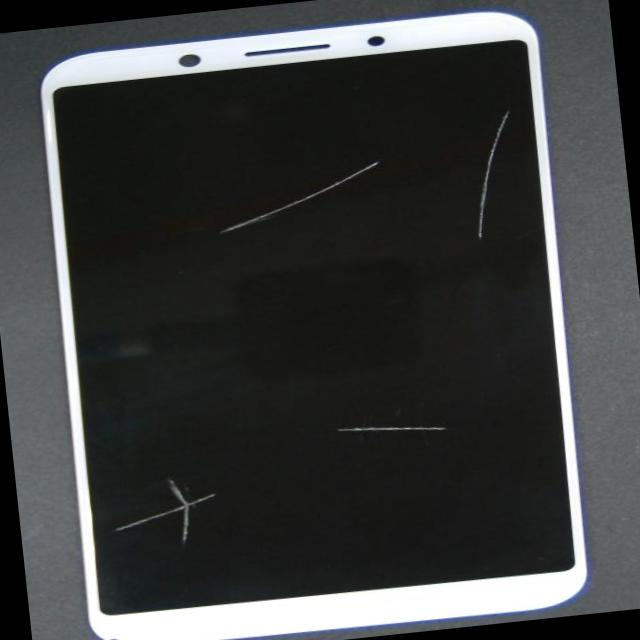Scratches: (191, 132, 397, 267), (451, 80, 536, 285), (315, 395, 467, 472), (106, 474, 239, 555)
